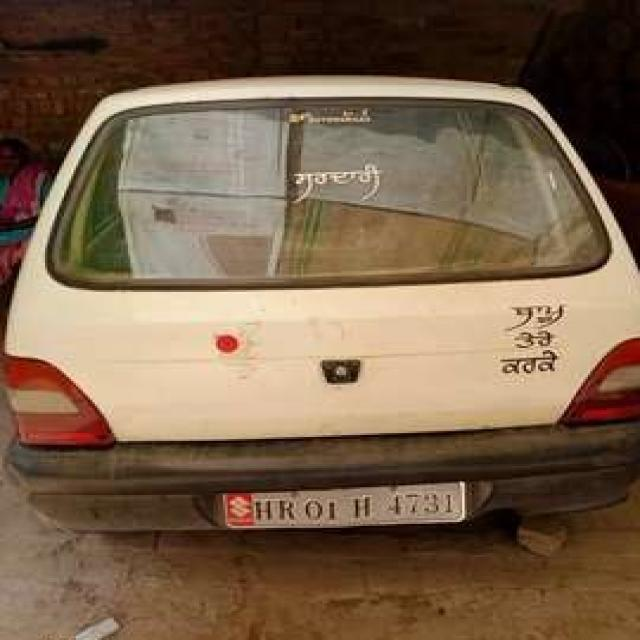plate: (222, 480, 468, 532)
